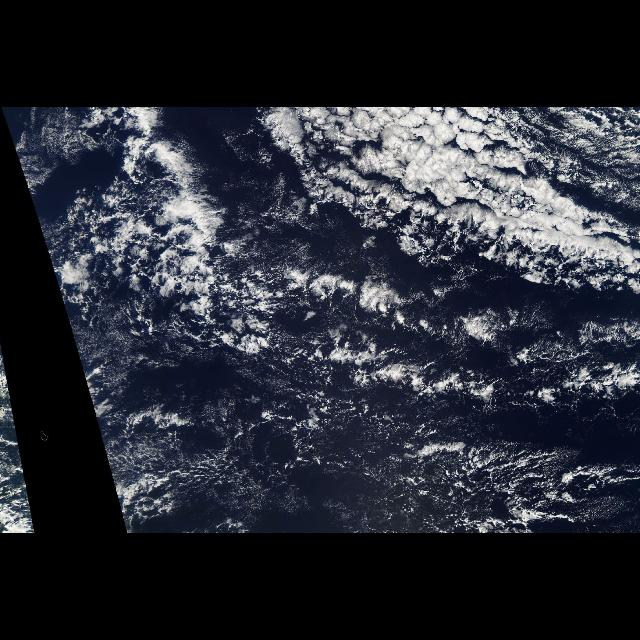Fish: (50, 120, 640, 454)
Gravel: (86, 192, 558, 528)
Sugar: (98, 431, 634, 534), (498, 307, 634, 425)
